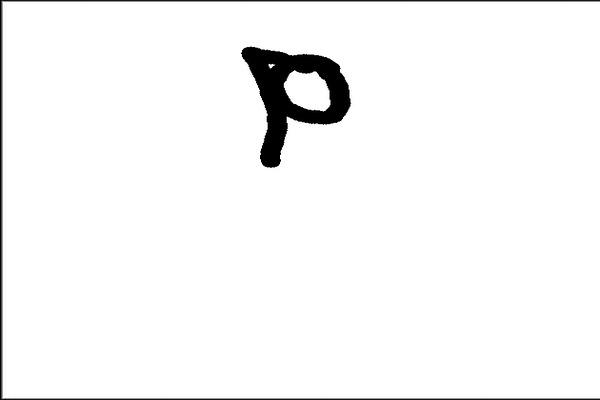P: (237, 42, 354, 181)
